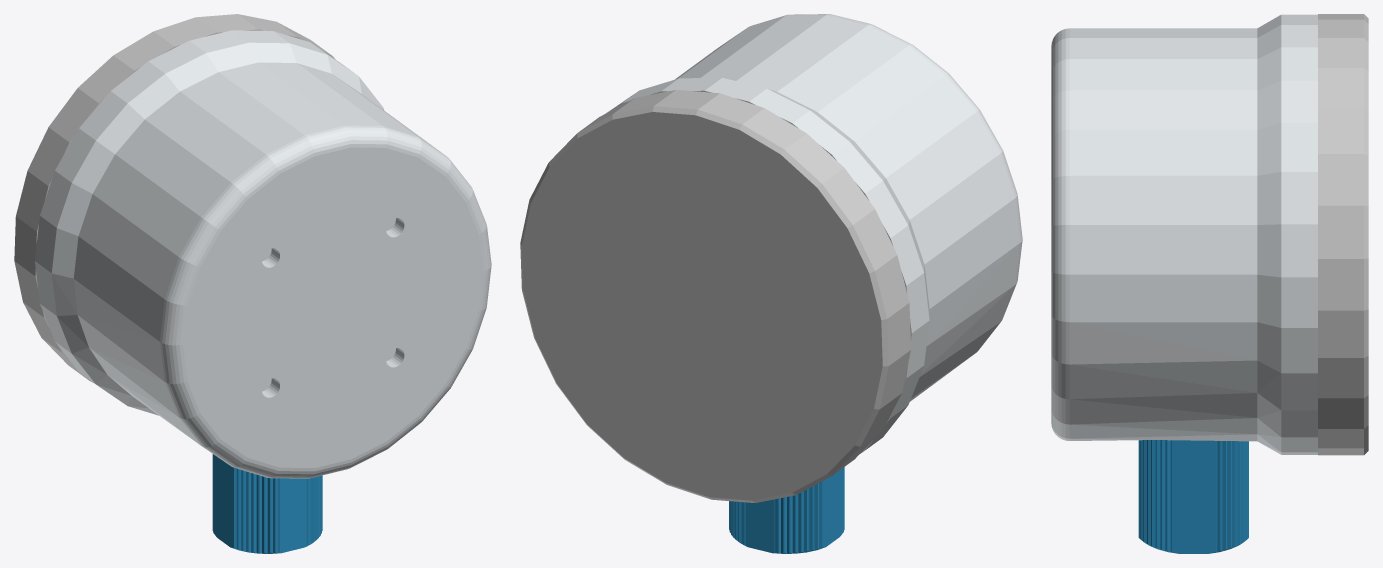
File: ping1d.dae
The picture shows the model from 3 angles, left to right: view 1: azimuth 30°, elevation 25°; view 2: azimuth 150°, elevation 25°; view 3: azimuth 270°, elevation 25°; orthographic projection. The views are drawn at different scales.
Parts seen in each view (by area): view 1: node2, node0, node1; view 2: node0, node2, node1; view 3: node2, node0, node1.
Boxes of the visible parts, x1,y1,x2,y2 form: node2: (35, 30, 491, 478); node0: (14, 14, 335, 382); node1: (212, 454, 322, 553); node0: (520, 90, 910, 502); node2: (607, 14, 1022, 453); node1: (729, 467, 844, 553); node2: (1051, 14, 1317, 454); node0: (1318, 14, 1368, 455); node1: (1138, 440, 1248, 553).
Bounding box in the file's own units: 0.048 × 0.0345 × 0.0595.
